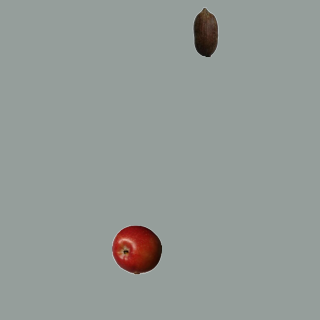Apple Braeburn: (111, 224, 161, 274)
Nut Pecan: (180, 6, 230, 56)
